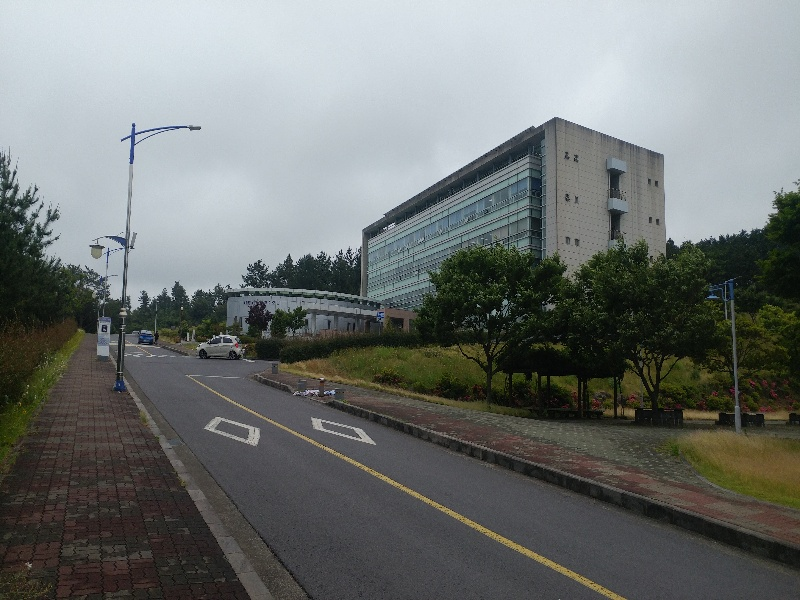College of Marine Science: (190, 112, 682, 334), (320, 134, 674, 302), (234, 289, 370, 333)
